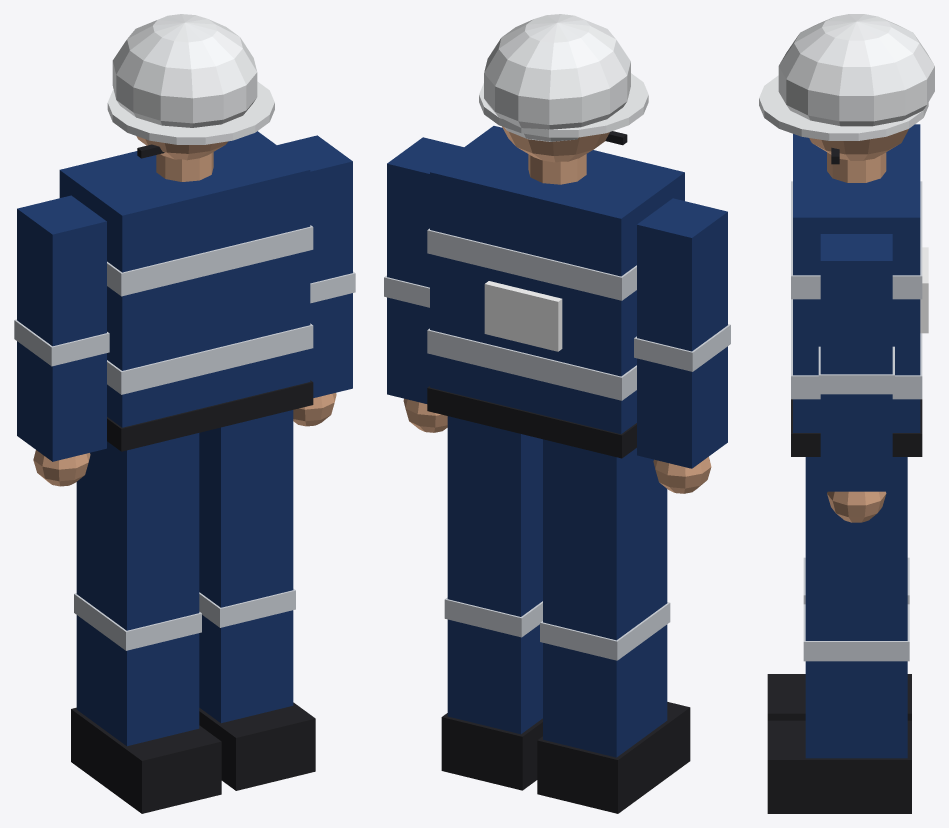
File: worker.glb
3 renders of one model, left to right at view 1: azimuth 30°, elevation 25°; view 2: azimuth 150°, elevation 25°; view 3: azimuth 270°, elevation 25°, orthographic.
Visible parts, largest first — view 1: torso, leg_R, leg_L, arm_R, head, arm_L; view 2: torso, leg_R, leg_L, arm_R, head, arm_L; view 3: leg_L, torso, arm_L, head, leg_R.
Boxes of the visible parts, left/top/right/bottom form: torso: left=59, top=131, right=313, bottom=451; leg_R: left=71, top=433, right=221, bottom=813; leg_L: left=199, top=410, right=315, bottom=790; arm_R: left=14, top=195, right=109, bottom=486; head: left=107, top=14, right=274, bottom=181; arm_L: left=277, top=135, right=355, bottom=426; torso: left=427, top=126, right=684, bottom=458; leg_R: left=537, top=439, right=690, bottom=813; leg_L: left=441, top=416, right=542, bottom=790; arm_R: left=634, top=198, right=730, bottom=493; head: left=479, top=14, right=648, bottom=184; arm_L: left=384, top=137, right=463, bottom=432; leg_L: left=767, top=457, right=911, bottom=813; torso: left=791, top=124, right=928, bottom=456; arm_L: left=818, top=234, right=894, bottom=522; head: left=759, top=14, right=934, bottom=182; leg_R: left=767, top=557, right=911, bottom=720.
Bounding box in the file's own units: 0.84 × 1.95 × 0.4143.
